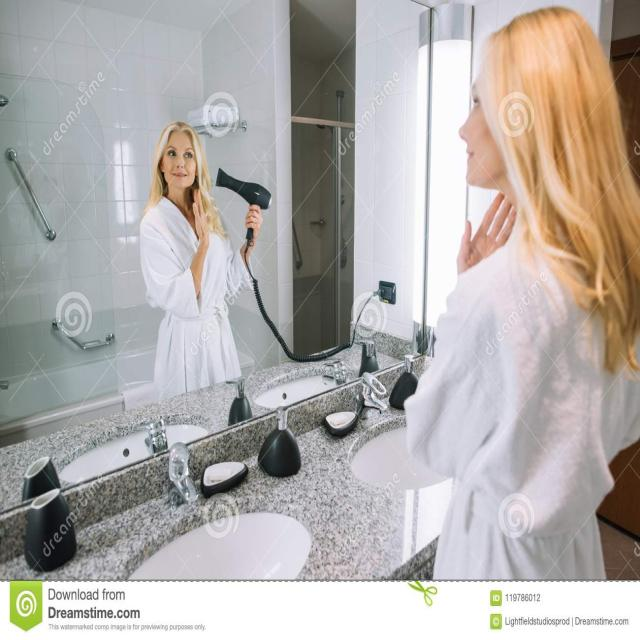dryer: (209, 153, 279, 270)
